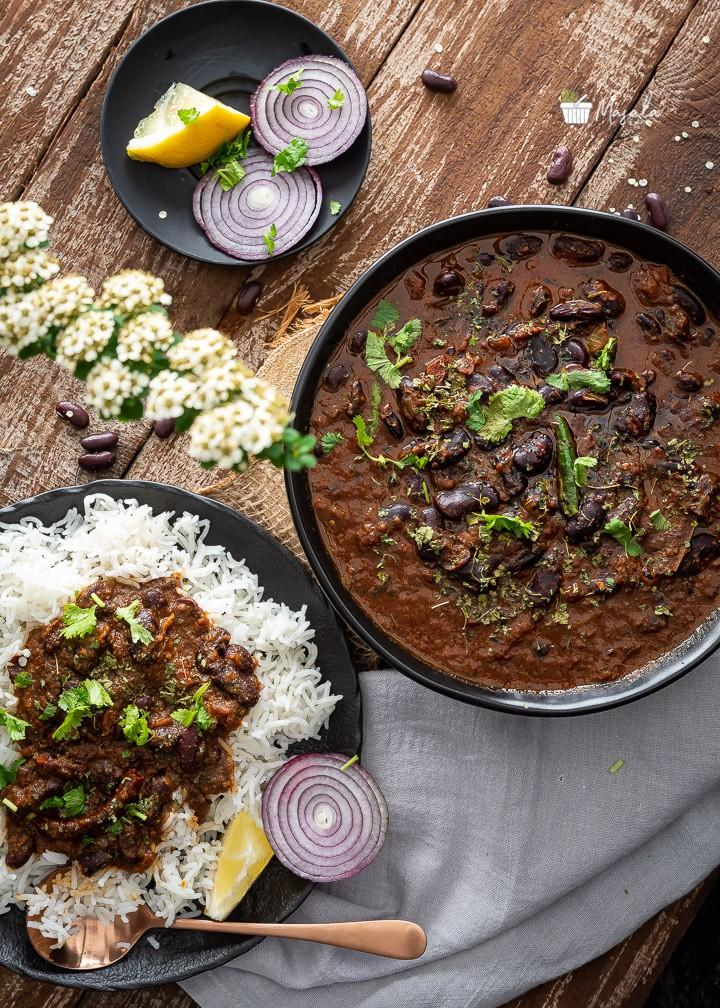rajma: (345, 288, 720, 688)
